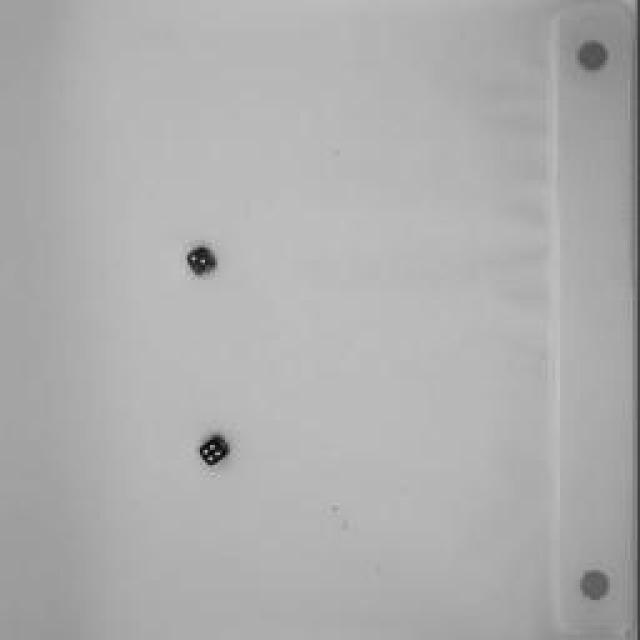dice_2: (186, 245, 222, 277)
dice_4: (200, 434, 232, 466)
